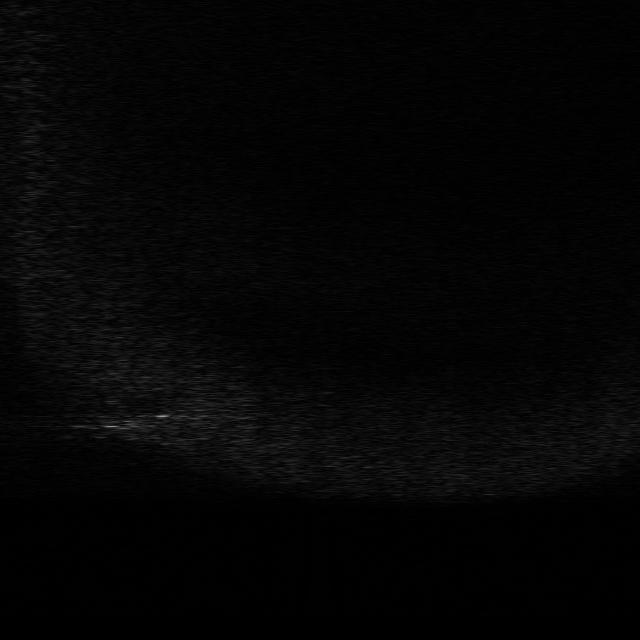plane: (76, 400, 158, 441)
